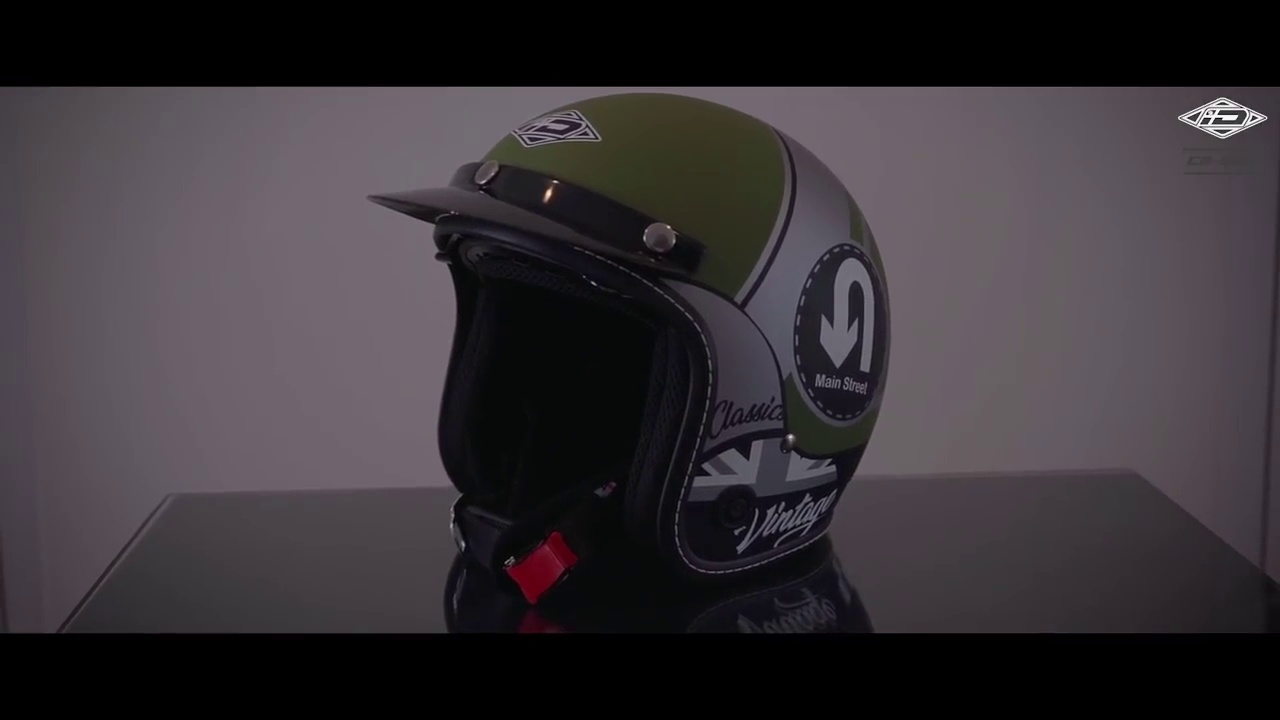helmet: (378, 80, 900, 578)
